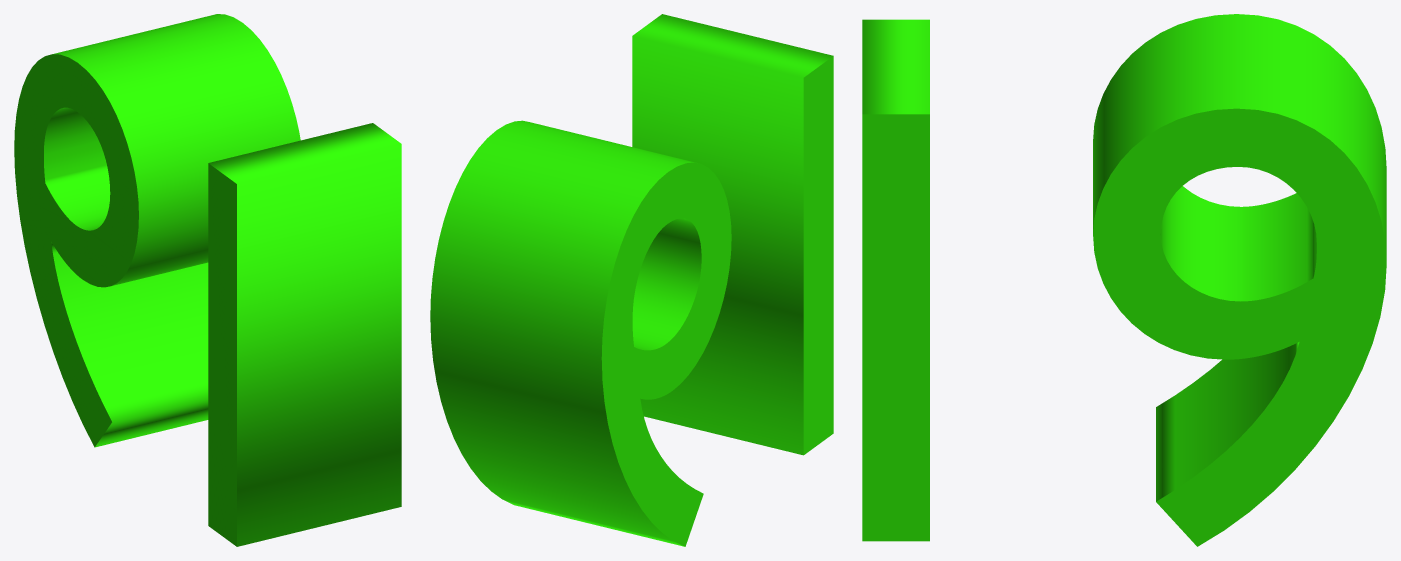
Rendered from number19.obj.
The picture shows the model from 3 angles, left to right: view 1: azimuth 30°, elevation 25°; view 2: azimuth 150°, elevation 25°; view 3: azimuth 270°, elevation 25°; orthographic projection. The views are drawn at different scales.
Parts seen in each view (by area): view 1: Text.025_Text.032; view 2: Text.025_Text.032; view 3: Text.025_Text.032.
Boxes of the visible parts, x1,y1,x2,y2 form: Text.025_Text.032: [14, 14, 401, 546]; Text.025_Text.032: [430, 14, 833, 546]; Text.025_Text.032: [862, 14, 1386, 546].
Bounding box in the file's own units: 2.23 × 4.83 × 5.23.
